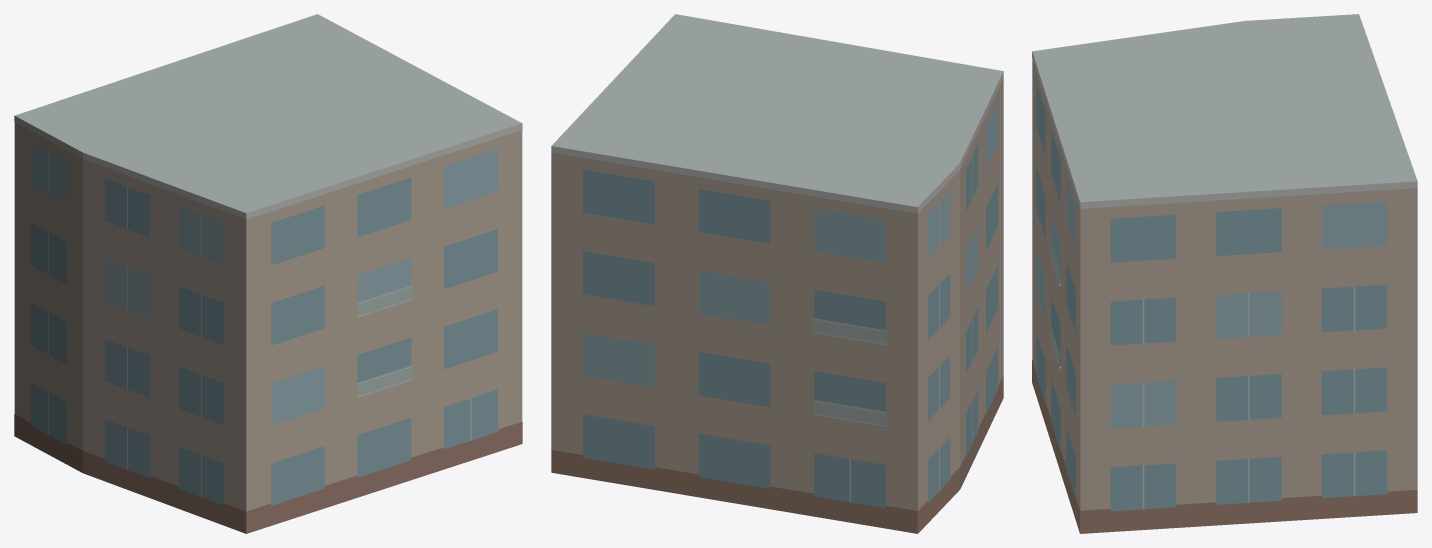
File: survey-upis-32860656.glb
3 views of the same model, side by side, from view 1: azimuth 30°, elevation 25°; view 2: azimuth 150°, elevation 25°; view 3: azimuth 270°, elevation 25° (orthographic). The views are drawn at different scales.
Parts seen in each view (by area): view 1: survey-upis-32860656.tmp; view 2: survey-upis-32860656.tmp; view 3: survey-upis-32860656.tmp.
Part boxes in pixels (left/top/right/bottom): survey-upis-32860656.tmp: left=14, top=14, right=522, bottom=533; survey-upis-32860656.tmp: left=551, top=14, right=1003, bottom=533; survey-upis-32860656.tmp: left=1032, top=14, right=1417, bottom=533.
Size of the model in its own units: 14.74 by 12.1 by 12.76.
